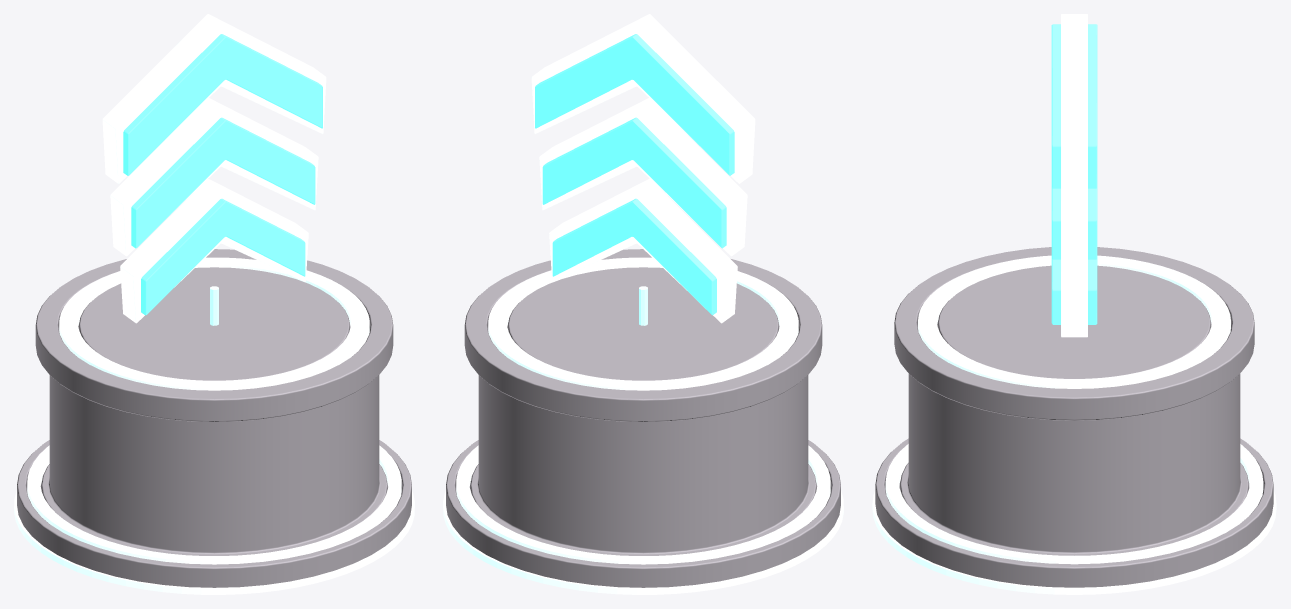
Rendered from Lobby_PED_Speed.fbx.
3 views of the same model, side by side, from view 1: azimuth 30°, elevation 25°; view 2: azimuth 150°, elevation 25°; view 3: azimuth 270°, elevation 25° (orthographic).
Visible parts, largest first — view 1: PedestalMarble__Speed, Glyph_SpeedBody__SpeedChevron_2, Glyph_SpeedBody__SpeedChevron_1, PedNeon_Speed__Speed_TopNeon, Glyph_SpeedRim__SpeedRim_2, Glyph_SpeedBody__SpeedChevron_0, Glyph_SpeedRim__SpeedRim_1, Glyph_SpeedRim__SpeedRim_0, PedNeon_Speed__Speed_BaseNeon, PedNeon_Speed__Speed_BaseNeonEdge; view 2: PedestalMarble__Speed, Glyph_SpeedBody__SpeedChevron_2, Glyph_SpeedBody__SpeedChevron_1, PedNeon_Speed__Speed_TopNeon, Glyph_SpeedRim__SpeedRim_2, Glyph_SpeedRim__SpeedRim_1, Glyph_SpeedBody__SpeedChevron_0, Glyph_SpeedRim__SpeedRim_0, PedNeon_Speed__Speed_BaseNeon, PedNeon_Speed__Speed_BaseNeonEdge; view 3: PedestalMarble__Speed, PedNeon_Speed__Speed_TopNeon, PedNeon_Speed__Speed_BaseNeon, Glyph_SpeedRim__SpeedRim_2, PedNeon_Speed__Speed_BaseNeonEdge, Glyph_SpeedBody__SpeedChevron_2, Glyph_SpeedRim__SpeedRim_1, Glyph_SpeedRim__SpeedRim_0, Glyph_SpeedBody__SpeedChevron_1, Glyph_SpeedBody__SpeedChevron_0.
Boxes of the visible parts, bbox=[...] form: PedestalMarble__Speed: bbox=[17, 249, 411, 587]; Glyph_SpeedBody__SpeedChevron_2: bbox=[123, 34, 322, 175]; Glyph_SpeedBody__SpeedChevron_1: bbox=[131, 117, 315, 248]; PedNeon_Speed__Speed_TopNeon: bbox=[59, 257, 369, 390]; Glyph_SpeedRim__SpeedRim_2: bbox=[102, 14, 326, 183]; Glyph_SpeedBody__SpeedChevron_0: bbox=[141, 198, 305, 315]; Glyph_SpeedRim__SpeedRim_1: bbox=[110, 98, 318, 256]; Glyph_SpeedRim__SpeedRim_0: bbox=[120, 179, 308, 323]; PedNeon_Speed__Speed_BaseNeon: bbox=[27, 445, 401, 564]; PedNeon_Speed__Speed_BaseNeonEdge: bbox=[14, 490, 414, 594]; PedestalMarble__Speed: bbox=[446, 249, 840, 587]; Glyph_SpeedBody__SpeedChevron_2: bbox=[535, 34, 734, 175]; Glyph_SpeedBody__SpeedChevron_1: bbox=[542, 117, 726, 248]; PedNeon_Speed__Speed_TopNeon: bbox=[488, 257, 798, 390]; Glyph_SpeedRim__SpeedRim_2: bbox=[531, 14, 755, 183]; Glyph_SpeedRim__SpeedRim_1: bbox=[539, 98, 747, 256]; Glyph_SpeedBody__SpeedChevron_0: bbox=[552, 198, 716, 315]; Glyph_SpeedRim__SpeedRim_0: bbox=[549, 178, 737, 323]; PedNeon_Speed__Speed_BaseNeon: bbox=[456, 445, 830, 564]; PedNeon_Speed__Speed_BaseNeonEdge: bbox=[443, 490, 843, 594]; PedestalMarble__Speed: bbox=[875, 247, 1273, 587]; PedNeon_Speed__Speed_TopNeon: bbox=[918, 255, 1230, 388]; PedNeon_Speed__Speed_BaseNeon: bbox=[885, 444, 1263, 564]; Glyph_SpeedRim__SpeedRim_2: bbox=[1061, 14, 1087, 200]; PedNeon_Speed__Speed_BaseNeonEdge: bbox=[872, 490, 1276, 594]; Glyph_SpeedBody__SpeedChevron_2: bbox=[1051, 24, 1097, 188]; Glyph_SpeedRim__SpeedRim_1: bbox=[1061, 201, 1087, 272]; Glyph_SpeedRim__SpeedRim_0: bbox=[1061, 272, 1087, 337]; Glyph_SpeedBody__SpeedChevron_1: bbox=[1051, 187, 1097, 259]; Glyph_SpeedBody__SpeedChevron_0: bbox=[1051, 258, 1097, 324].
Bounding box in the file's own units: 4.26 × 5.78 × 4.26.
